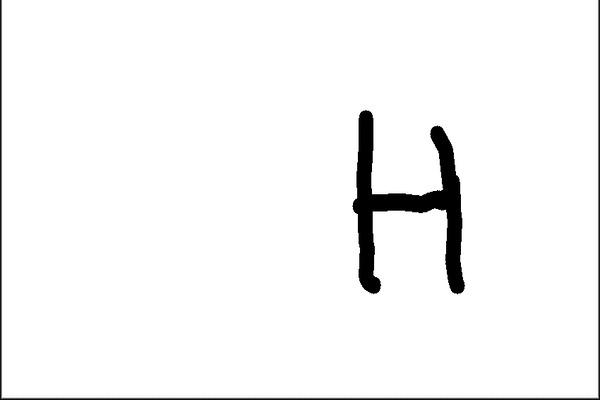H: (346, 103, 470, 302)
